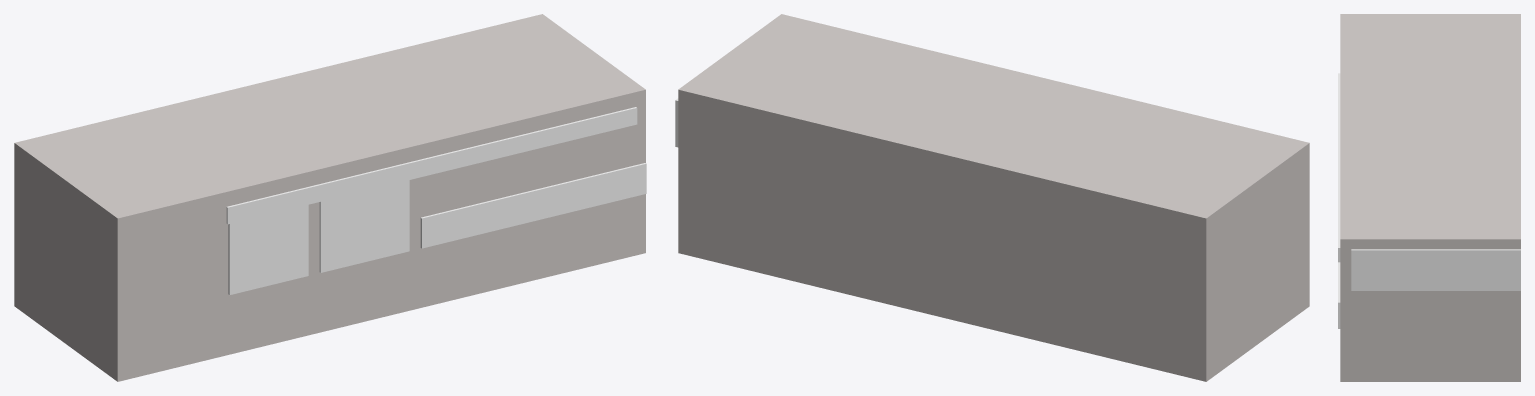
Rendered from senkou.glb.
3 renders of one model, left to right at view 1: azimuth 30°, elevation 25°; view 2: azimuth 150°, elevation 25°; view 3: azimuth 270°, elevation 25°, orthographic. The views are drawn at different scales.
Visible parts, largest first — view 1: 立方体.027, 立方体.020, 立方体.022, 立方体.030, 立方体.015; view 2: 立方体.027; view 3: 立方体.027, 立方体.007, 立方体.015, 立方体.030.
Part boxes in pixels (x1,y1,x2,y2): 立方体.027: (14,14,645,381); 立方体.020: (319,162,409,272); 立方体.022: (228,187,308,294); 立方体.030: (420,163,646,248); 立方体.015: (226,107,637,224); 立方体.027: (678,14,1309,381); 立方体.027: (1340,14,1520,381); 立方体.007: (1351,249,1520,290); 立方体.015: (1338,73,1340,262); 立方体.030: (1338,262,1340,328).
Bounding box in the file's own units: 9.09 × 2.67 × 3.1.
1 material, 1 textured.
